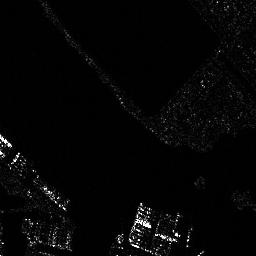ship: (132, 200, 184, 237)
